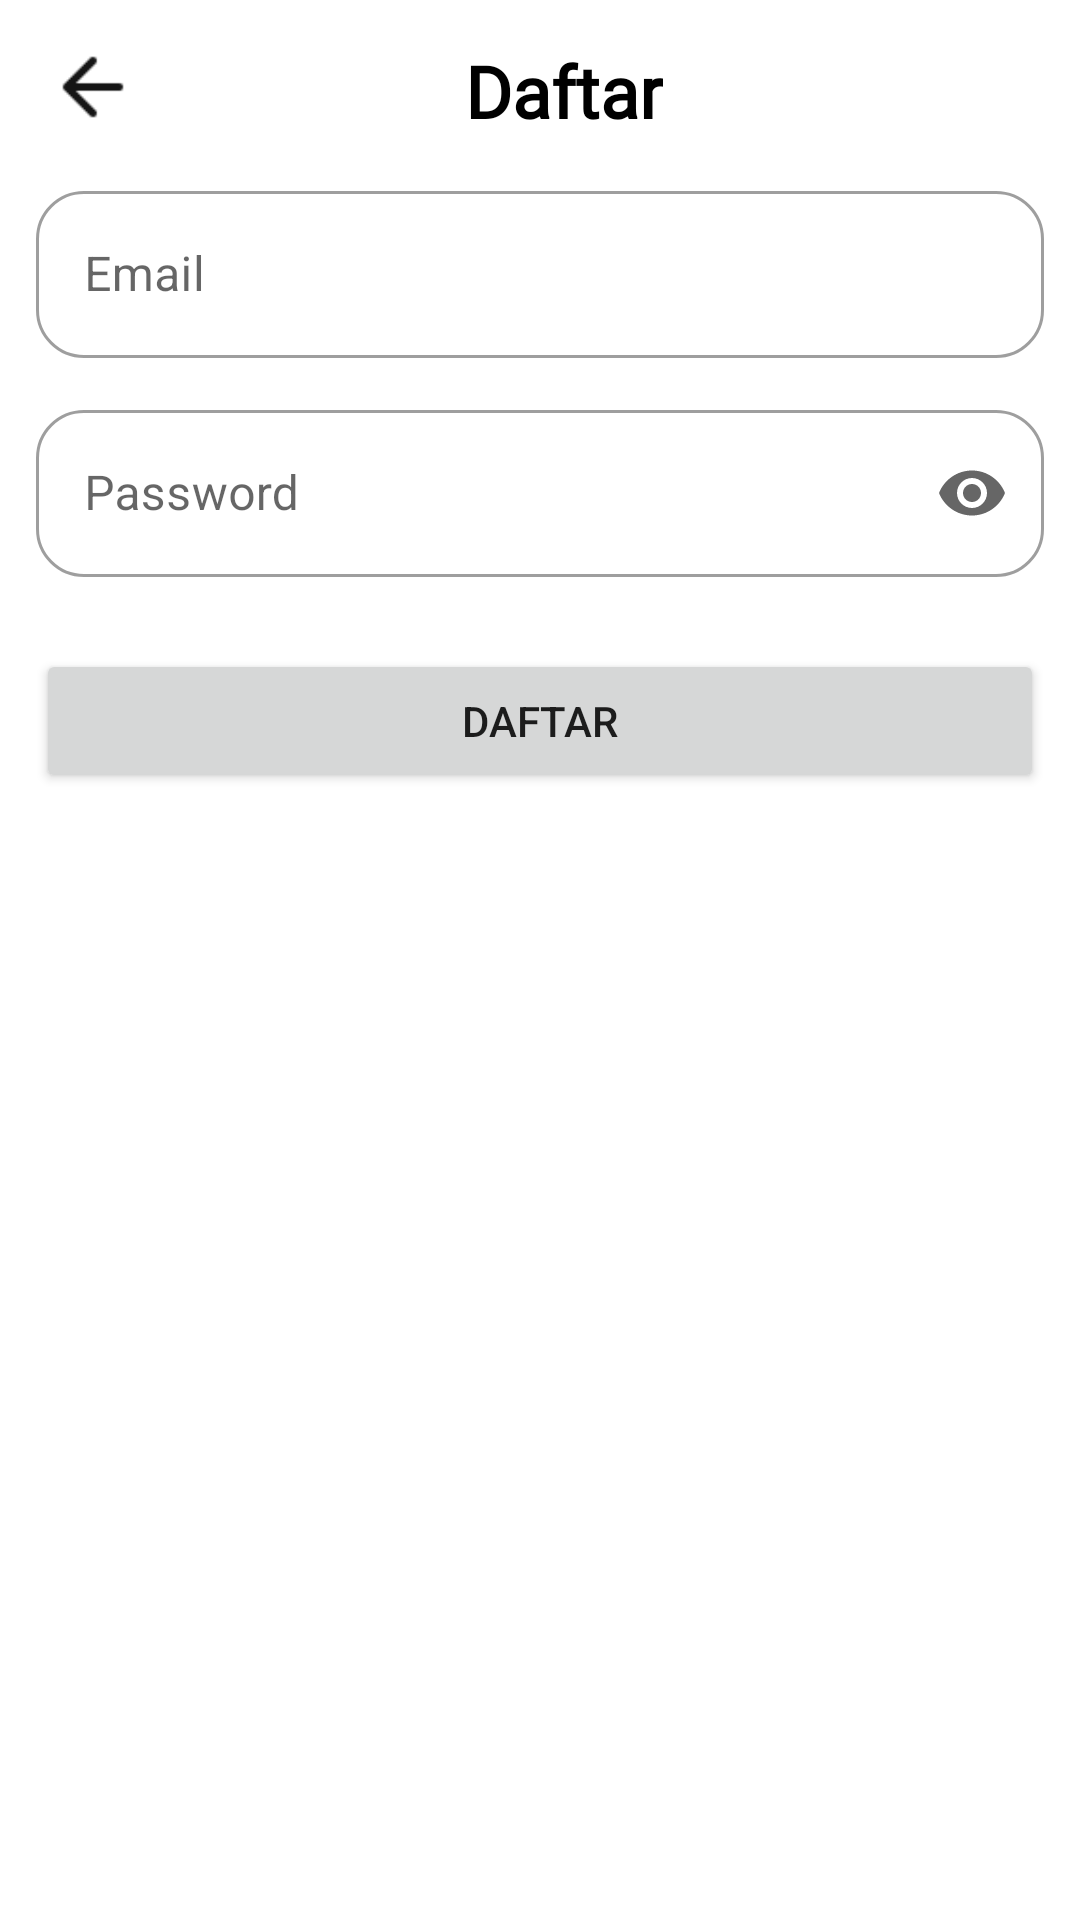

Icon bounding boxes for this 1080*1920 phone screenshot, format (x1, y1, x2, y2):
back: (62, 56, 124, 118)
